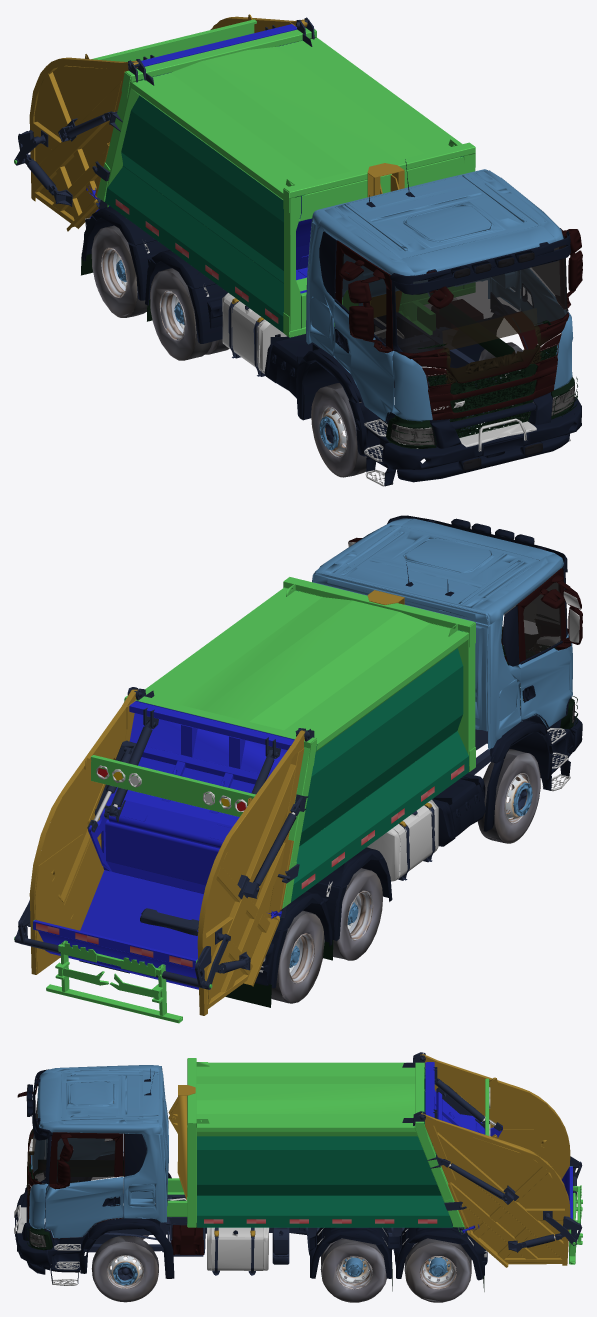
The picture shows the model from 3 angles, top to bottom: view 1: azimuth 30°, elevation 25°; view 2: azimuth 150°, elevation 25°; view 3: azimuth 270°, elevation 25°; orthographic projection. The views are drawn at different scales.
Visible parts, largest first — view 1: body, glass, wheel_FL, wheel_RL; view 2: body, wheel_FL, glass, wheel_RL; view 3: body, glass, wheel_FR, wheel_RR.
Boxes of the visible parts, <box> form: body: <box>14,14,582,486</box>; glass: <box>342,236,574,470</box>; wheel_FL: <box>312,397,366,477</box>; wheel_RL: <box>94,247,146,317</box>; body: <box>14,515,582,1023</box>; wheel_FL: <box>484,764,540,843</box>; glass: <box>405,518,574,723</box>; wheel_RL: <box>271,933,322,1003</box>; body: <box>14,1052,582,1302</box>; glass: <box>26,1085,115,1247</box>; wheel_FR: <box>94,1249,155,1302</box>; wheel_RR: <box>409,1256,467,1302</box>.
Size of the model in its own units: 3.2 by 3.69 by 9.5.
